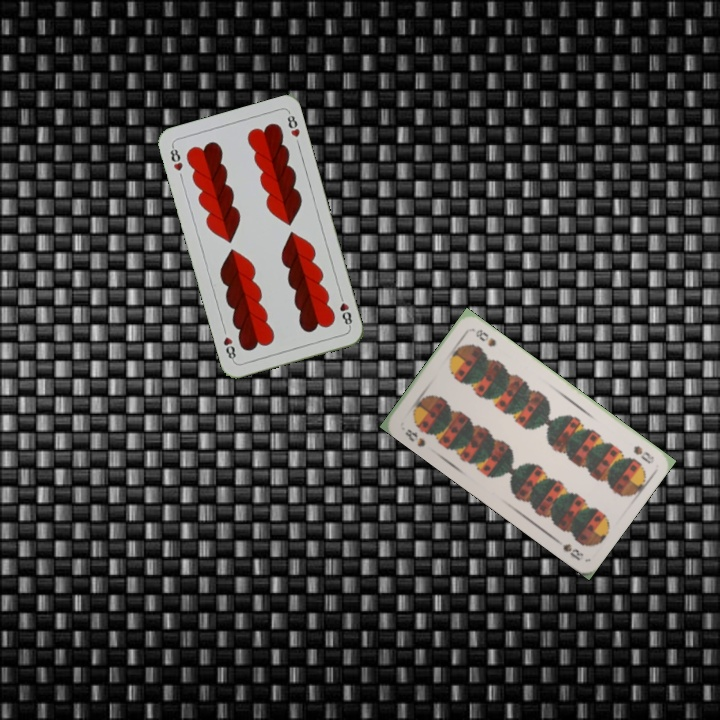H8: (335, 290, 355, 330), (166, 142, 185, 174)
S8: (629, 441, 657, 466), (401, 425, 428, 450)
